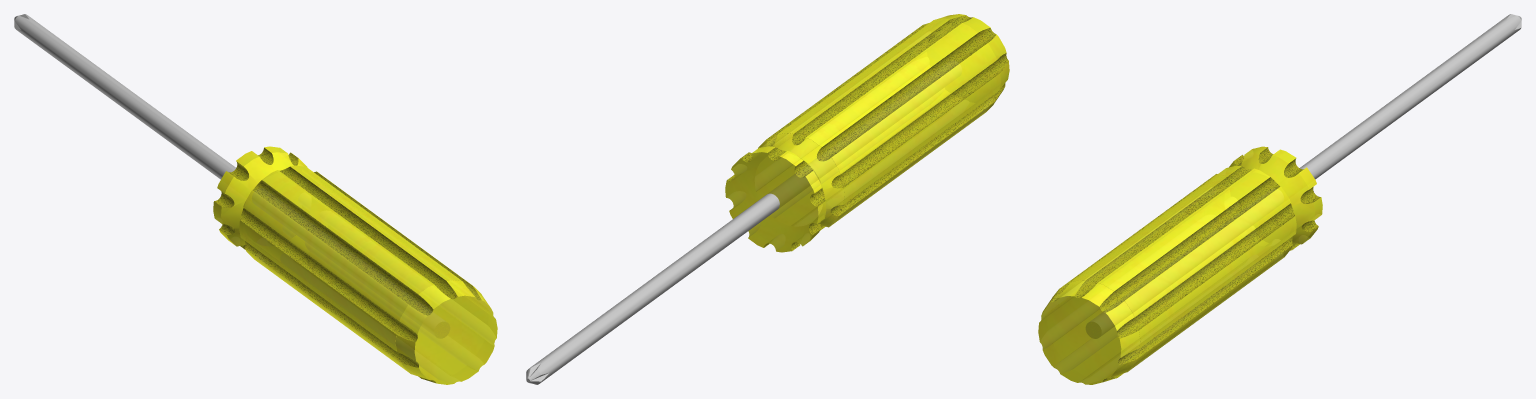
File: 드라이버.dae
3 views of the same model, side by side, from view 1: azimuth 30°, elevation 25°; view 2: azimuth 150°, elevation 25°; view 3: azimuth 330°, elevation 25° (orthographic).
Parts seen in each view (by area): view 1: SketchUp (×7); view 2: SketchUp (×7); view 3: SketchUp (×7).
Boxes of the visible parts, left/top/right/bottom form: SketchUp (×7): left=14, top=14, right=497, bottom=384; SketchUp (×7): left=526, top=14, right=1009, bottom=384; SketchUp (×7): left=1038, top=14, right=1521, bottom=384.
Size of the model in its own units: 15.93 by 130 by 15.75.
4 materials, 1 textured.
